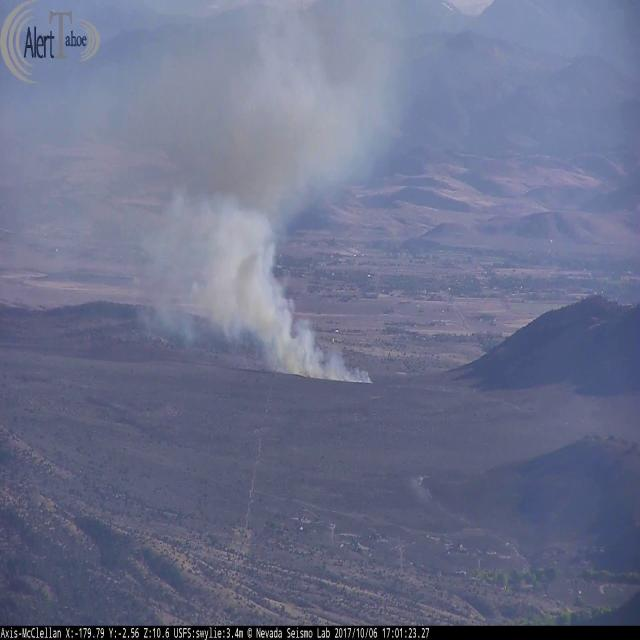smoke: (130, 0, 399, 428)
